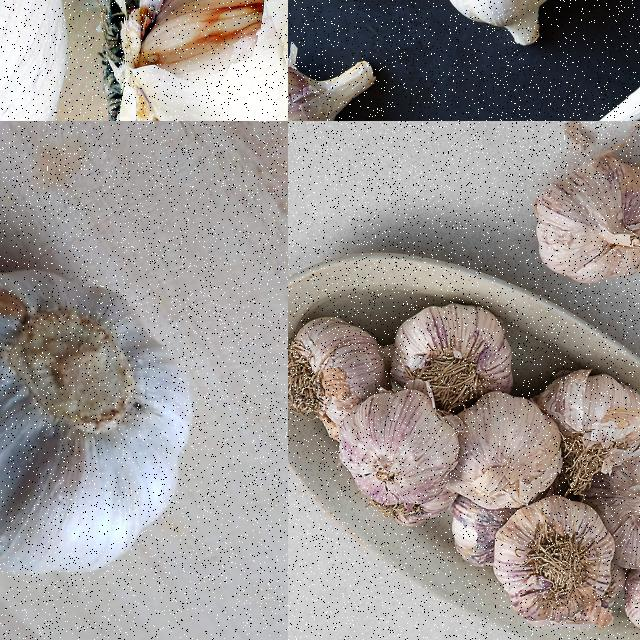garlic: (0, 261, 198, 576), (101, 0, 287, 120), (496, 497, 614, 627), (392, 295, 514, 409), (534, 157, 639, 286), (446, 394, 560, 510), (347, 391, 457, 506), (532, 370, 639, 476), (288, 317, 386, 425), (0, 0, 68, 120), (576, 448, 639, 569), (288, 44, 379, 120), (437, 0, 576, 49), (583, 0, 639, 120)
